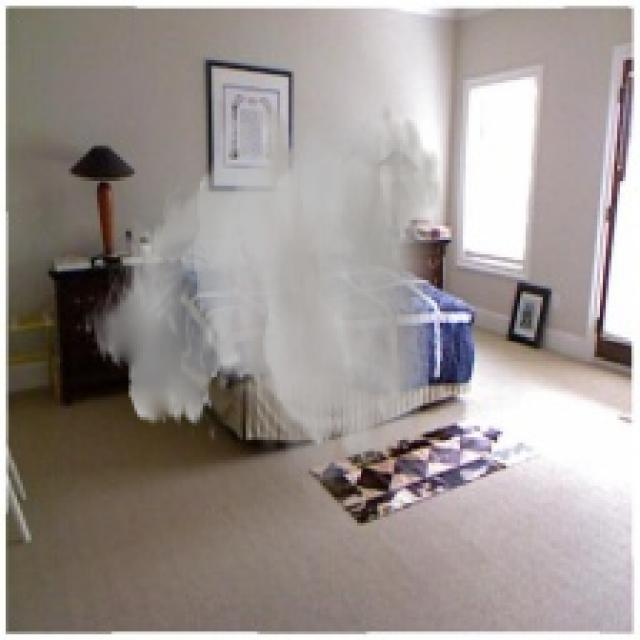smoke: (83, 97, 443, 514)
